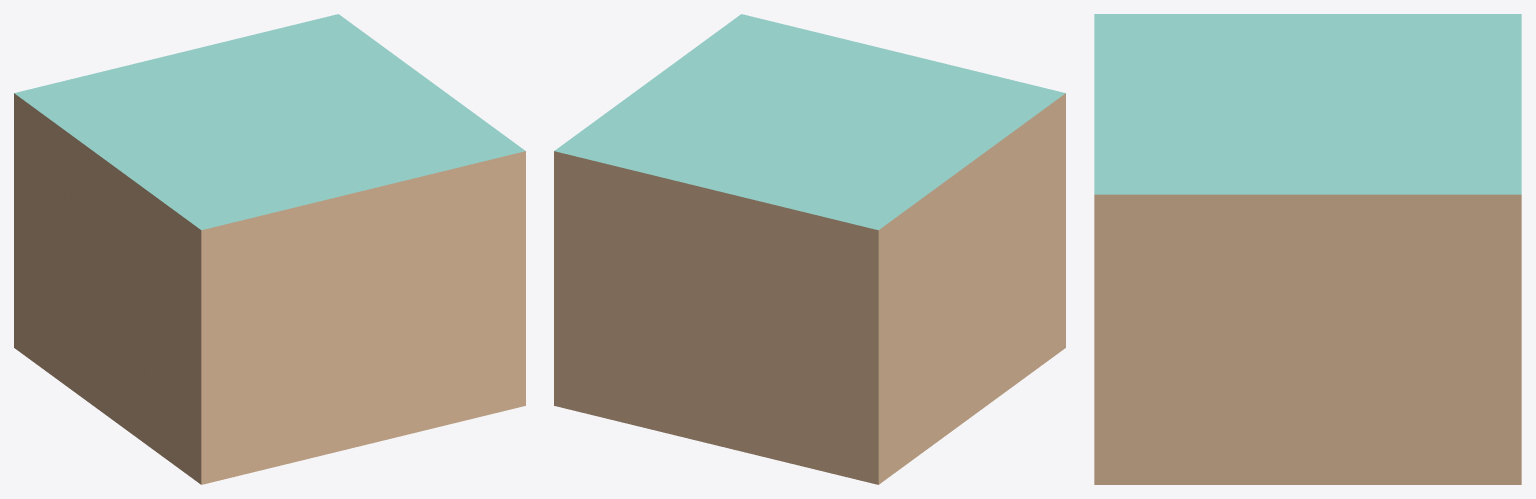
Rendered from nature-kit-classic--cliffbrown-blockhalf.glb.
3 views of the same model, side by side, from view 1: azimuth 30°, elevation 25°; view 2: azimuth 150°, elevation 25°; view 3: azimuth 270°, elevation 25° (orthographic). The views are drawn at different scales.
Visible parts, largest first — view 1: cliffBrown_blockHalf; view 2: cliffBrown_blockHalf; view 3: cliffBrown_blockHalf.
Part boxes in pixels (x1,y1,x2,y2): cliffBrown_blockHalf: [14, 14, 525, 484]; cliffBrown_blockHalf: [554, 14, 1065, 484]; cliffBrown_blockHalf: [1094, 14, 1521, 484].
Size of the model in its own units: 1 by 0.75 by 1.
